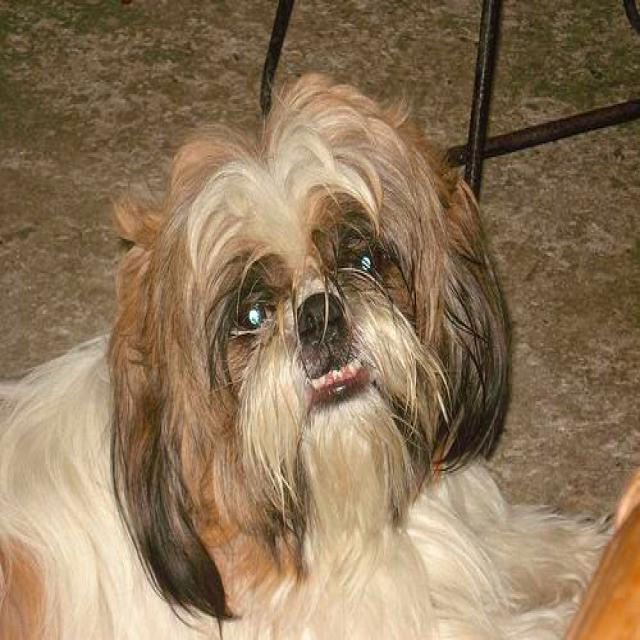shih_tzu: (0, 72, 613, 638)
